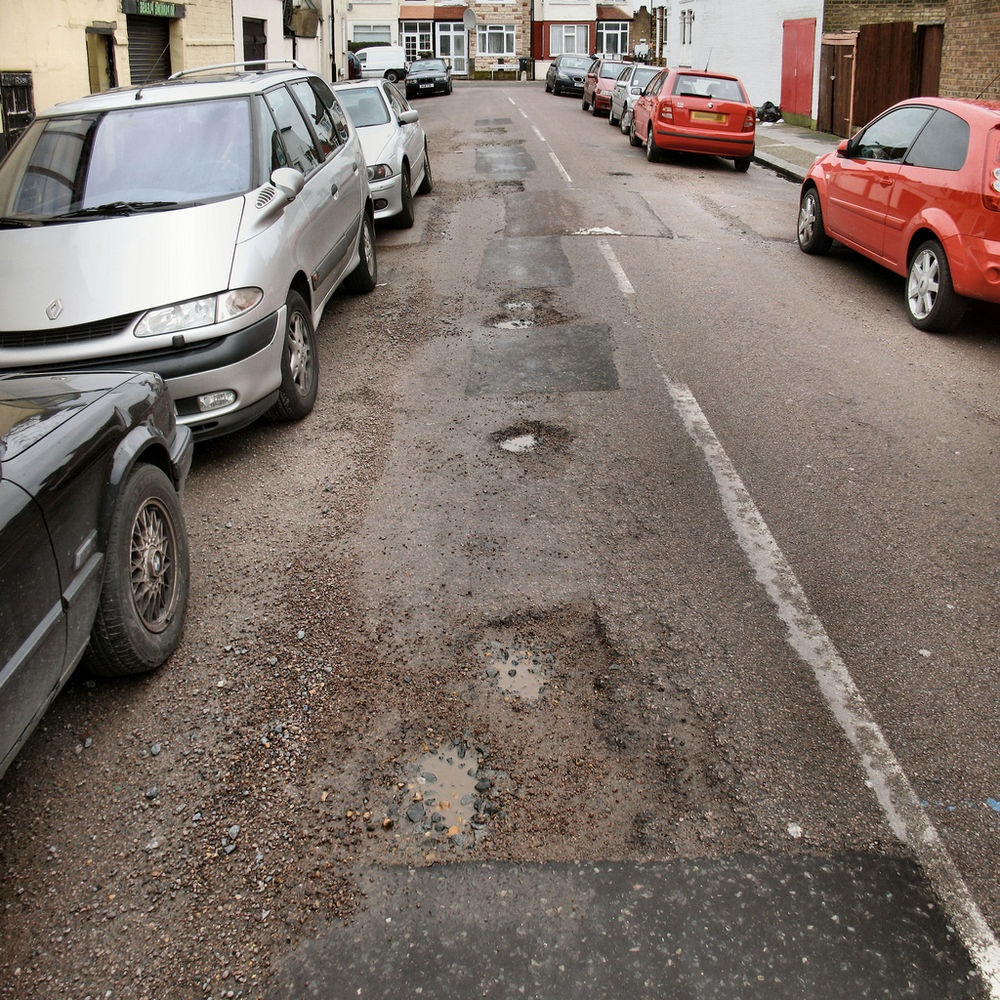pothole: (463, 594, 607, 708), (388, 737, 484, 853), (472, 272, 555, 349), (473, 424, 561, 467), (453, 135, 521, 154), (491, 175, 524, 197), (601, 168, 630, 182), (473, 128, 502, 134)
